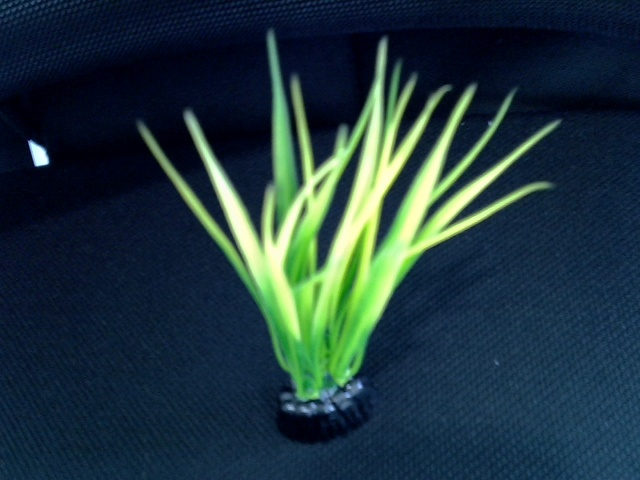해바라기새싹: (165, 105, 506, 438)
